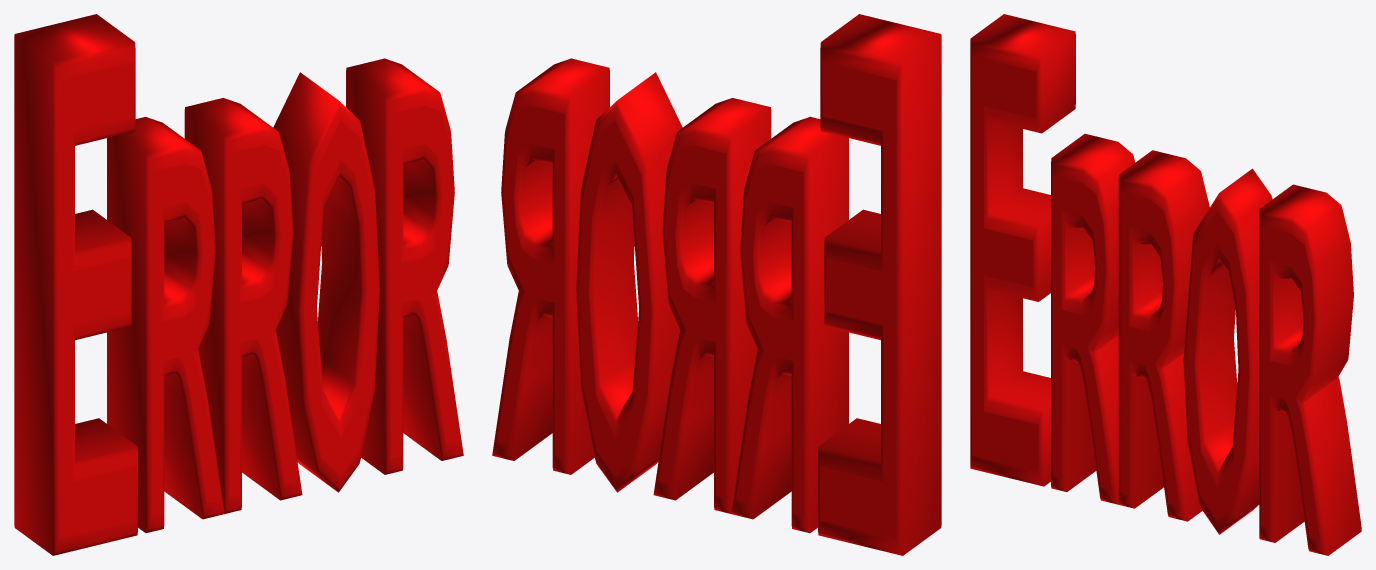
Rendered from error.glb.
3 views of the same model, side by side, from view 1: azimuth 30°, elevation 25°; view 2: azimuth 150°, elevation 25°; view 3: azimuth 330°, elevation 25° (orthographic). The views are drawn at different scales.
Visible parts, largest first — view 1: Text; view 2: Text; view 3: Text.
Boxes of the visible parts, x1,y1,x2,y2 form: Text: (14,14,463,555); Text: (492,14,941,555); Text: (970,14,1361,555).
Size of the model in its own units: 2.1 by 2.44 by 0.38.
